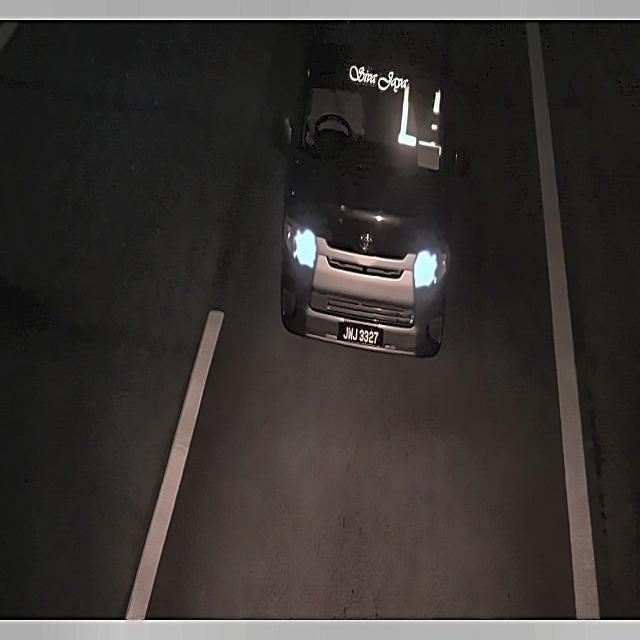car: (334, 316, 388, 352)
